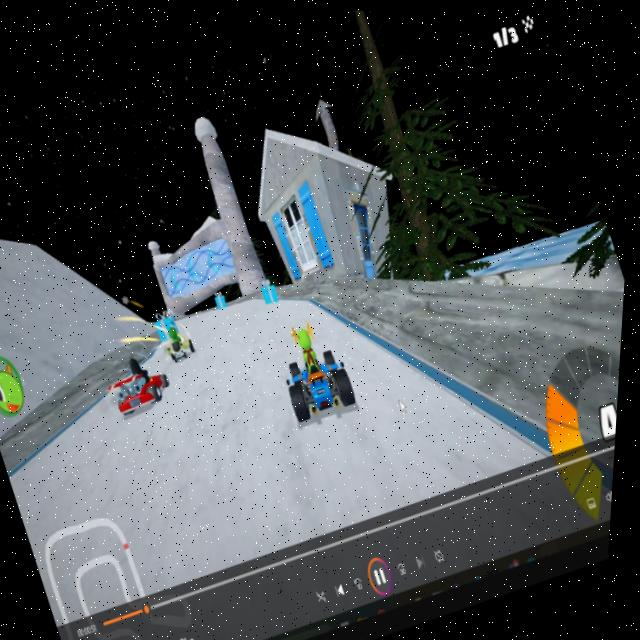bonus: (262, 276, 289, 311), (212, 287, 234, 311)
enemy_kart: (104, 344, 189, 431), (165, 323, 211, 372)
player_kart: (270, 311, 374, 440)
